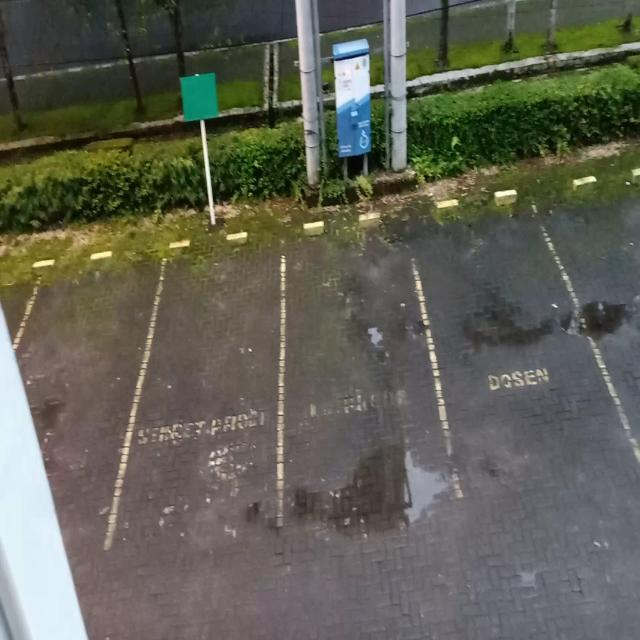empty: (431, 188, 590, 508), (134, 227, 286, 552), (279, 214, 437, 522), (10, 244, 144, 546)
